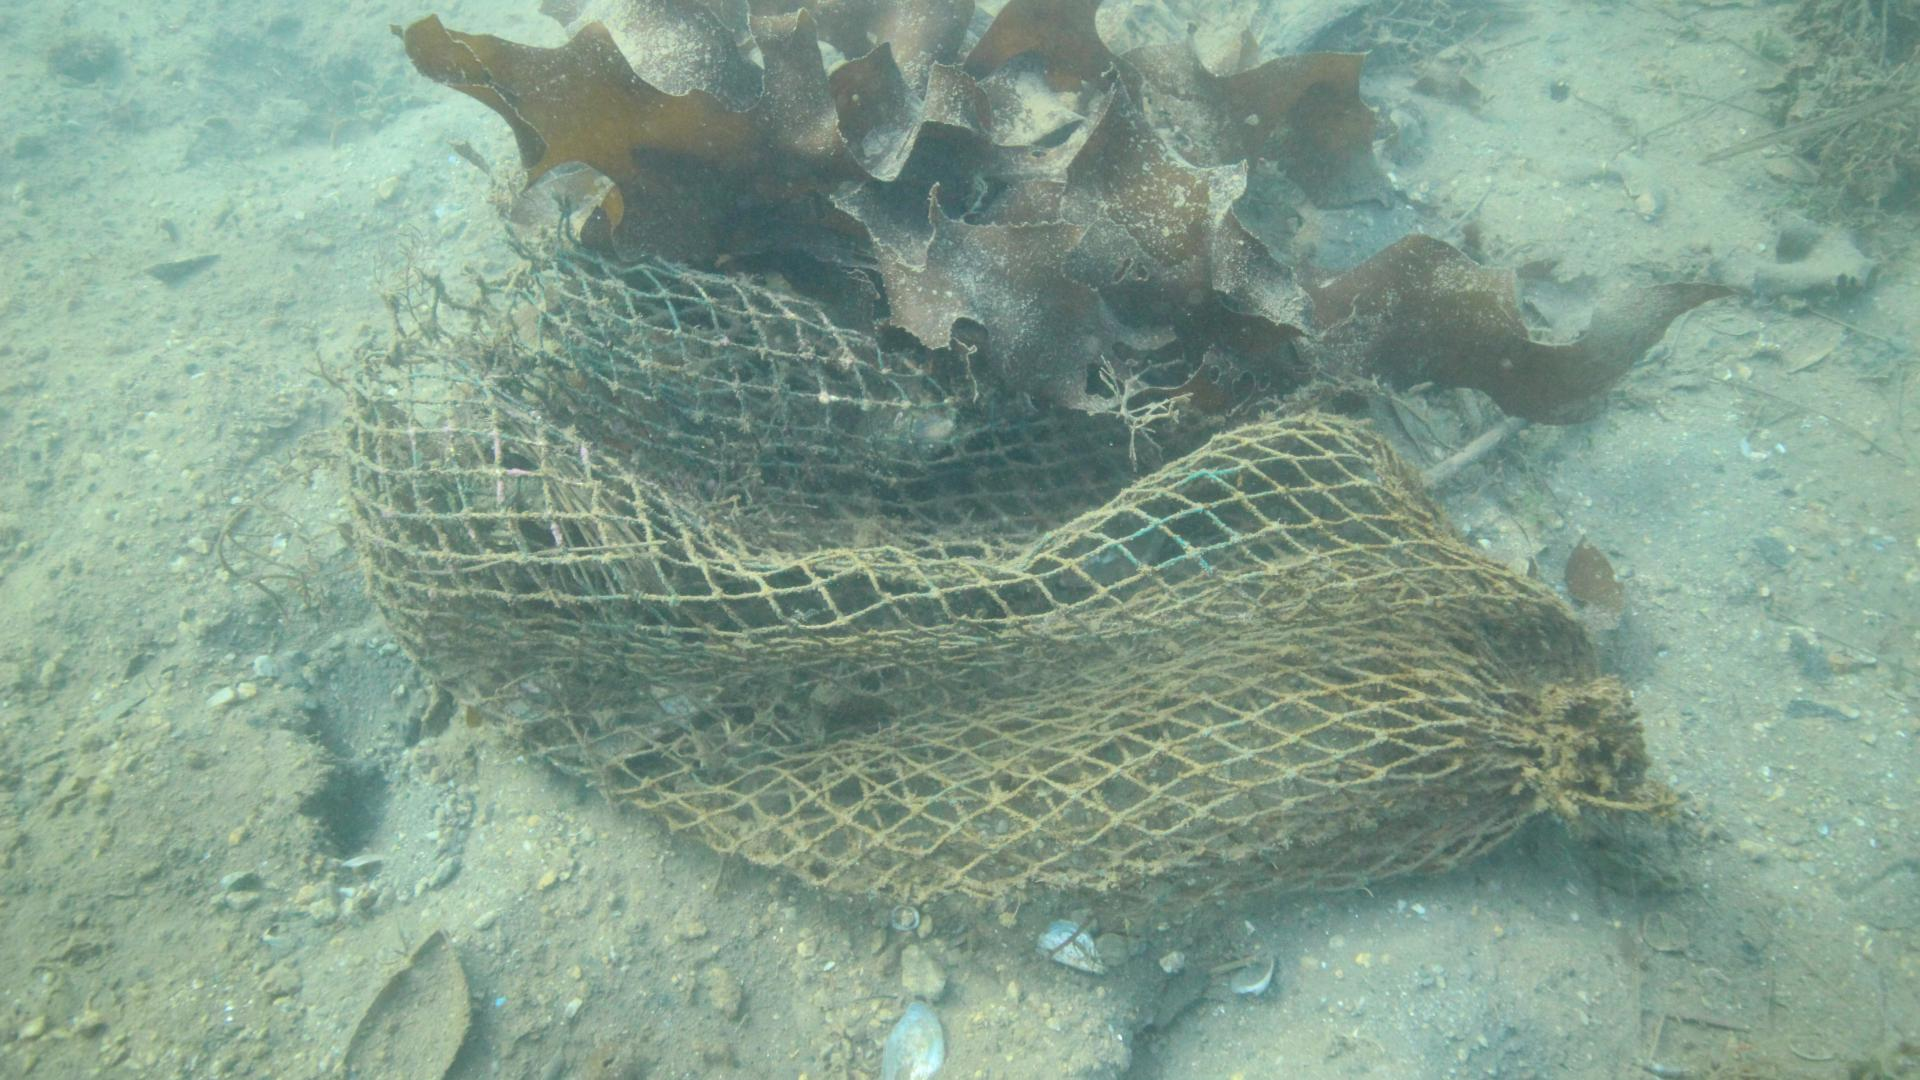fish net: (339, 251, 1528, 965)
